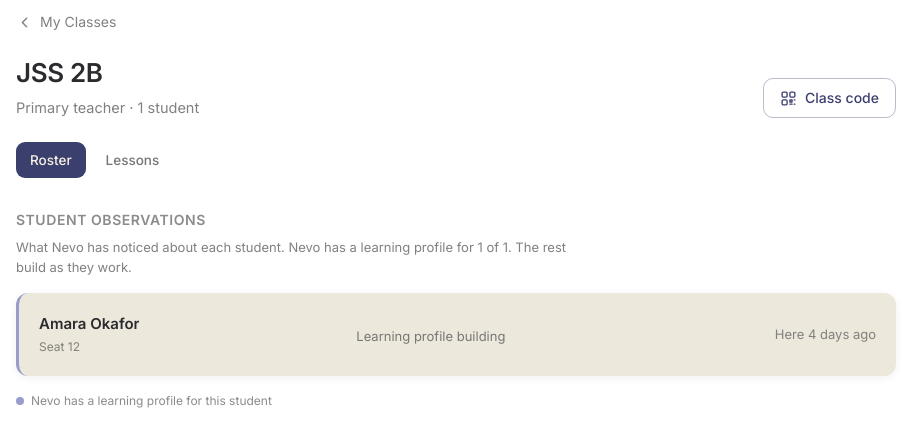
Test case: the Lessons tab › lists what the class has been given
This screenshot has width=913, height=425.
Click the tab "lessons": (132, 160) [92,142,173,178]
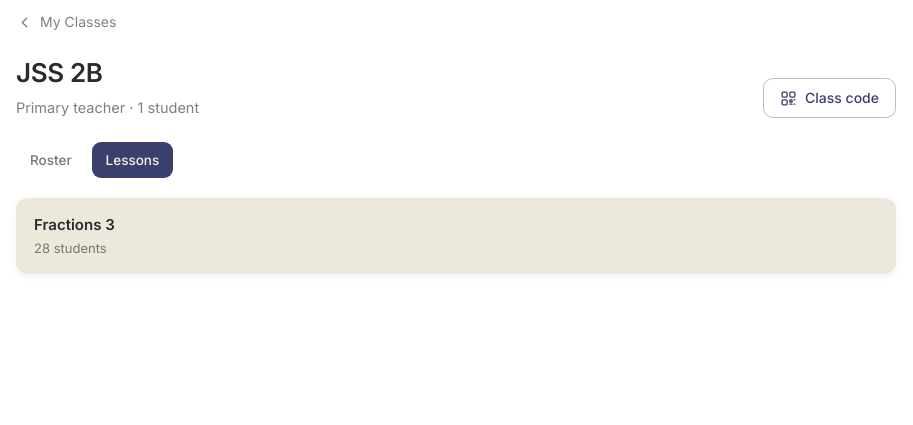
Expected: the text "Fractions 3" is shown, [34,214,115,237]
Expected: the text "28 students" is shown, [34,239,115,258]
